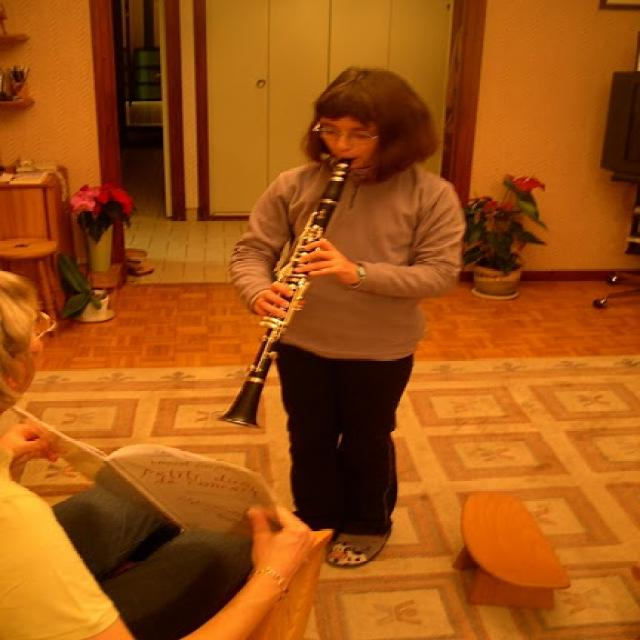clarinet: (220, 156, 357, 432)
